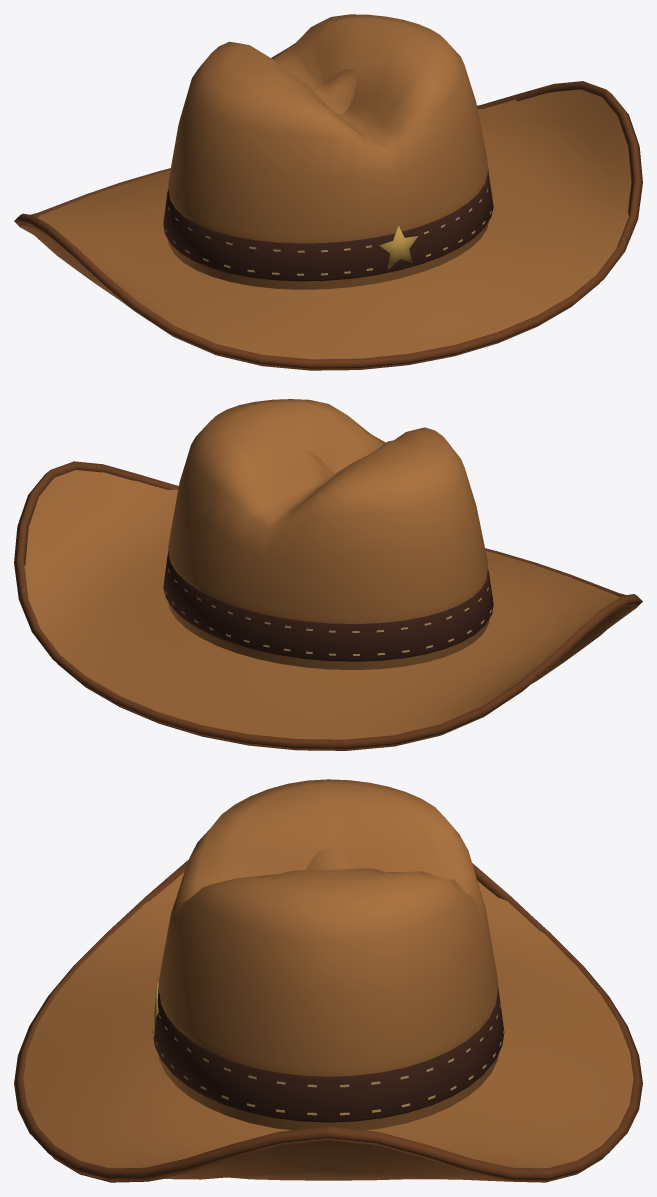
File: Cosmetic_Sundown_Cowboy_Hat.glb
3 renders of one model, top to bottom at view 1: azimuth 30°, elevation 25°; view 2: azimuth 150°, elevation 25°; view 3: azimuth 270°, elevation 25°, orthographic. The views are drawn at different scales.
Parts seen in each view (by area): view 1: Sundown_Cowboy_Hat; view 2: Sundown_Cowboy_Hat; view 3: Sundown_Cowboy_Hat.
Part boxes in pixels (box(x1,y1,x2,y2)): Sundown_Cowboy_Hat: box(14, 14, 642, 370); Sundown_Cowboy_Hat: box(14, 399, 642, 750); Sundown_Cowboy_Hat: box(14, 779, 642, 1182).
Size of the model in its own units: 1.36 by 0.4782 by 1.07.
